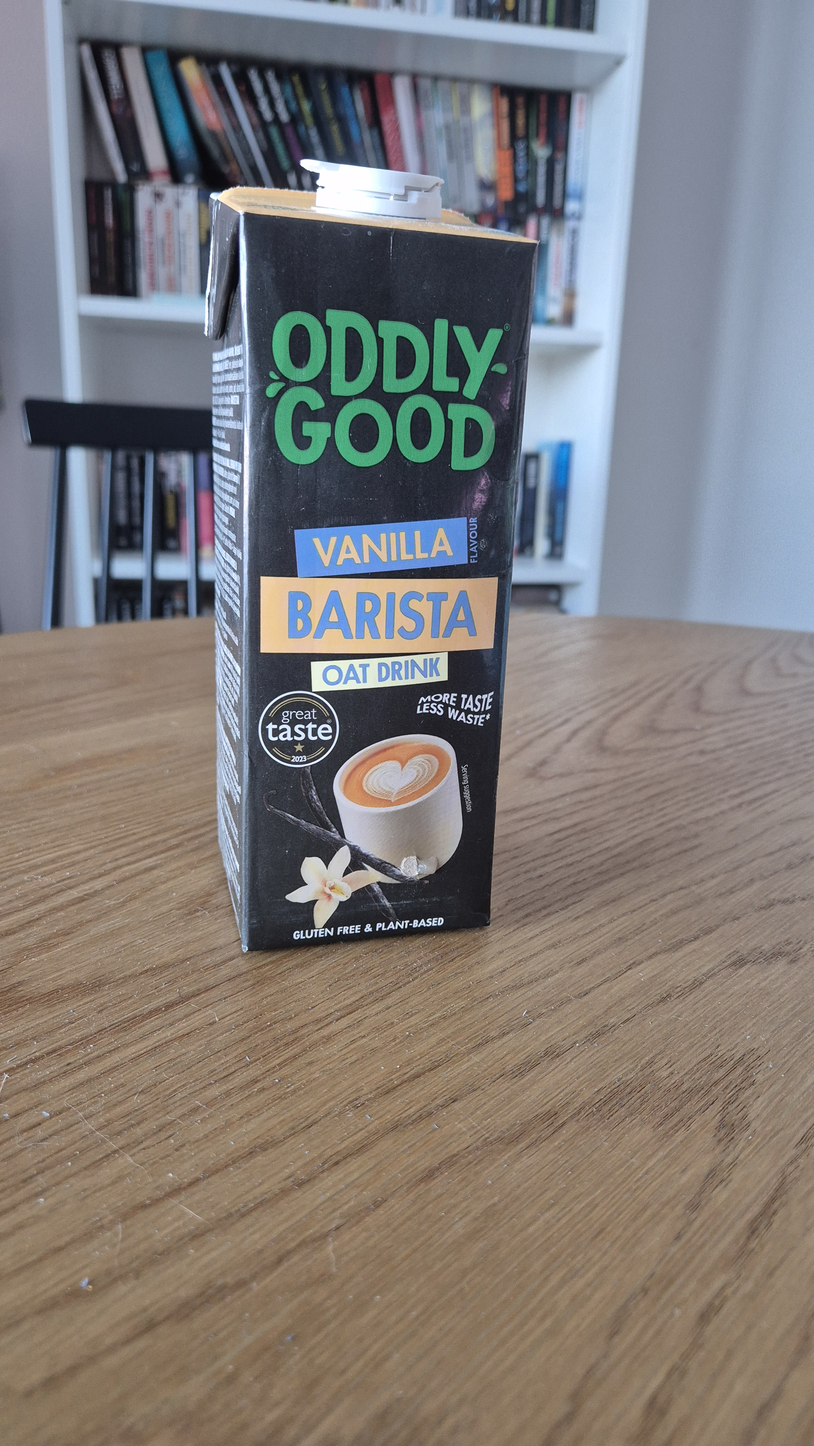Dryckeskartong: (204, 159, 539, 952)
